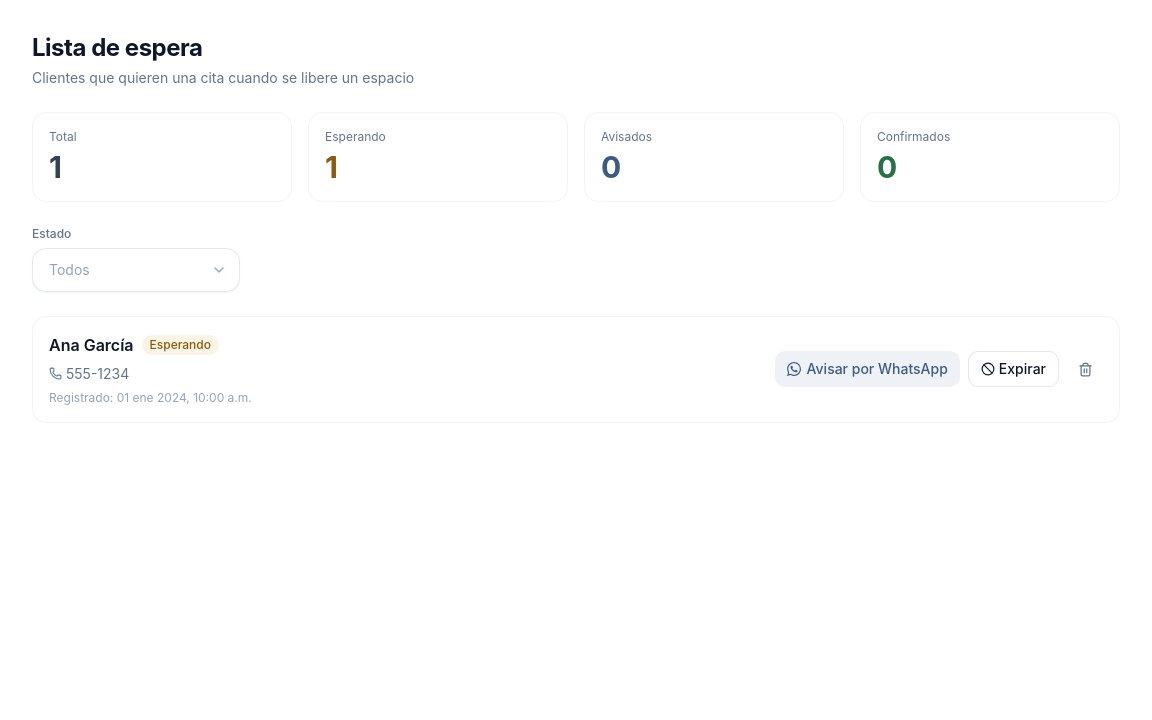
Test: ListaEsperaPage — expirar y estados vacíos (OM-31) › con un filtro activo el vacío nombra el estado
Expected: the text "Ana García" is shown, [49,333,134,358]
What coordinates should you click on to do the following:
click the button named "Estado"
I would click on:
 (136, 270)
Its box is [32,248,240,292].
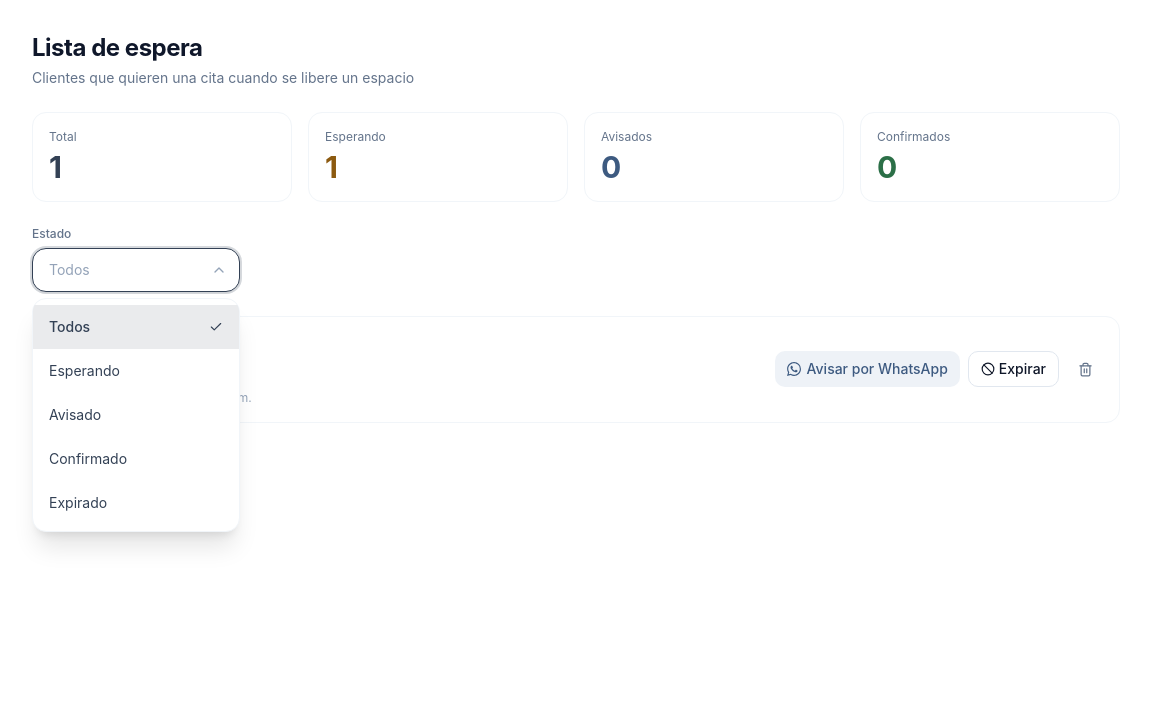
What coordinates should you click on to do the following:
click the option "Confirmado"
I would click on:
 (136, 459)
Its box is [33,437,239,481].
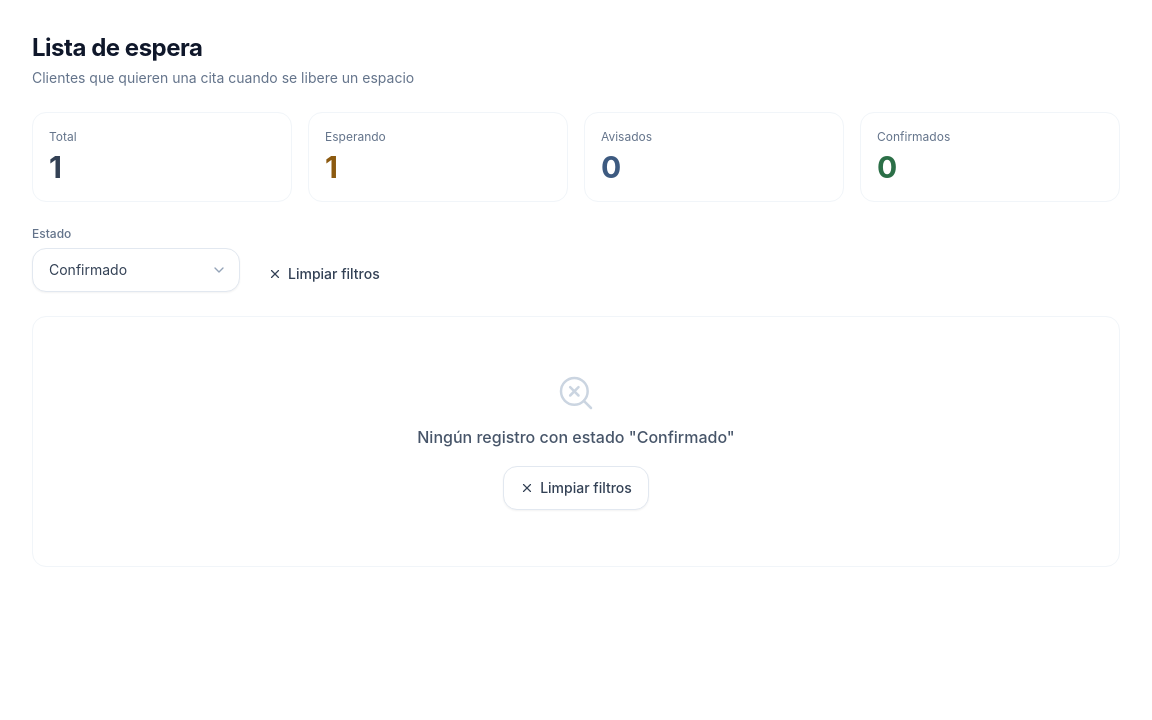
Expected: the text "Ningún registro con estado \"Confirmado\"" is shown, [417,425,735,450]
